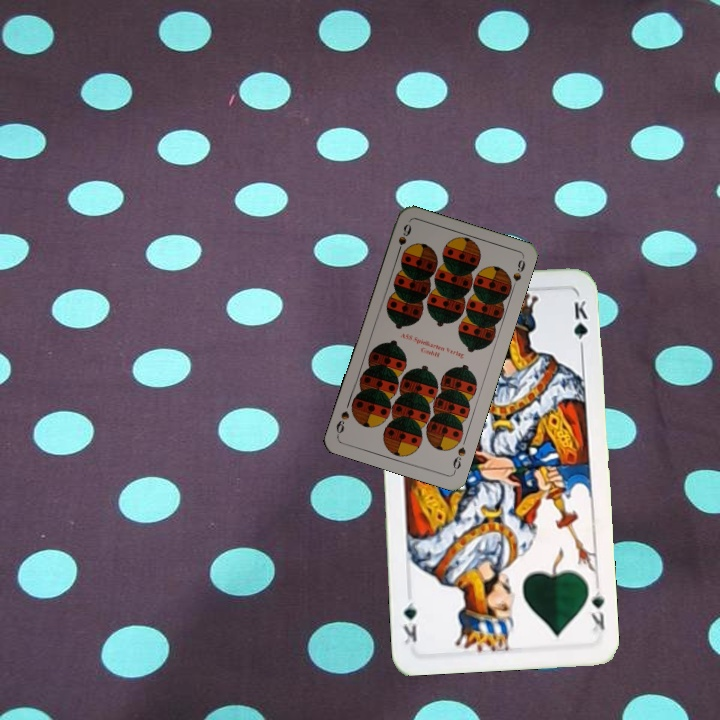GK: (586, 586, 607, 640)
S9: (393, 220, 414, 259), (449, 443, 468, 475)
